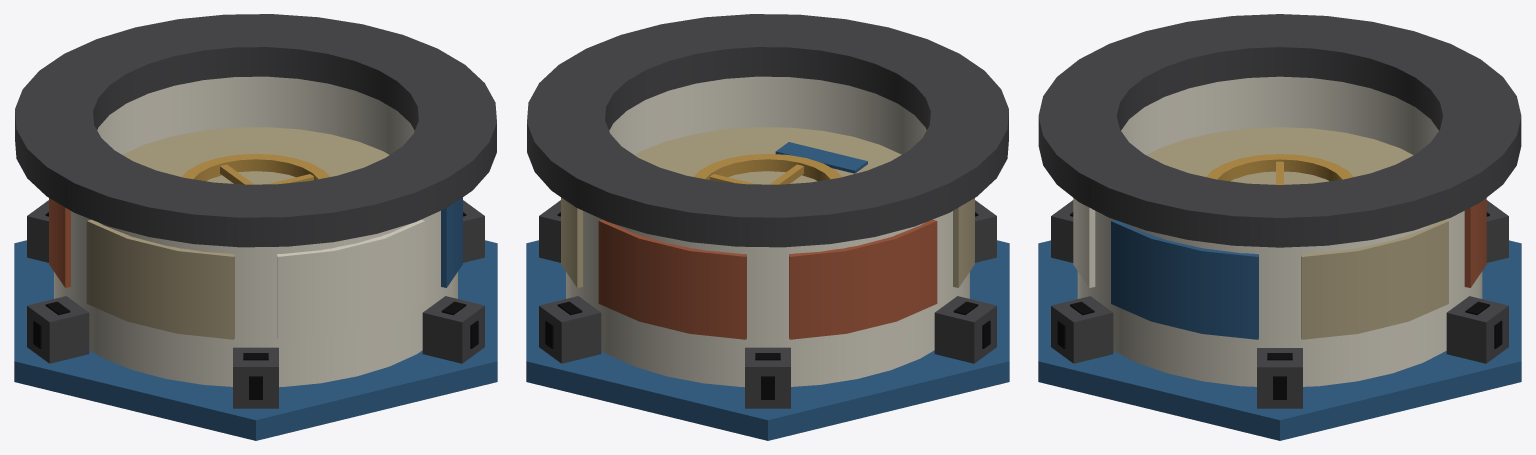
The model's file is collar_frame.obj.
3 views of the same model, side by side, from view 1: azimuth 30°, elevation 25°; view 2: azimuth 150°, elevation 25°; view 3: azimuth 270°, elevation 25° (orthographic).
Parts seen in each view (by area): view 1: collar_frame; view 2: collar_frame; view 3: collar_frame.
Boxes of the visible parts, x1,y1,x2,y2 form: collar_frame: (14,14,497,440); collar_frame: (526,14,1009,440); collar_frame: (1038,14,1521,440).
Bounding box in the file's own units: 1.71 × 0.7 × 1.48.
